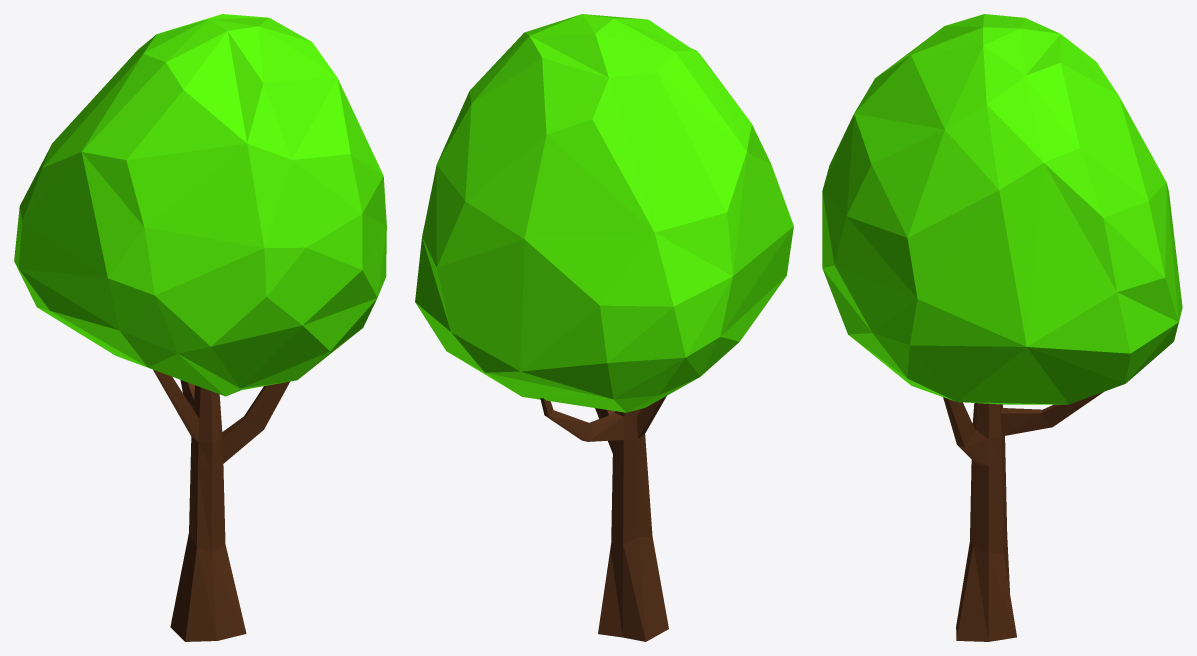
File: boptree.obj
3 renders of one model, left to right at view 1: azimuth 30°, elevation 25°; view 2: azimuth 150°, elevation 25°; view 3: azimuth 270°, elevation 25°, orthographic. The views are drawn at different scales.
Bounding box in the file's own units: 57.53 × 105 × 55.88.
